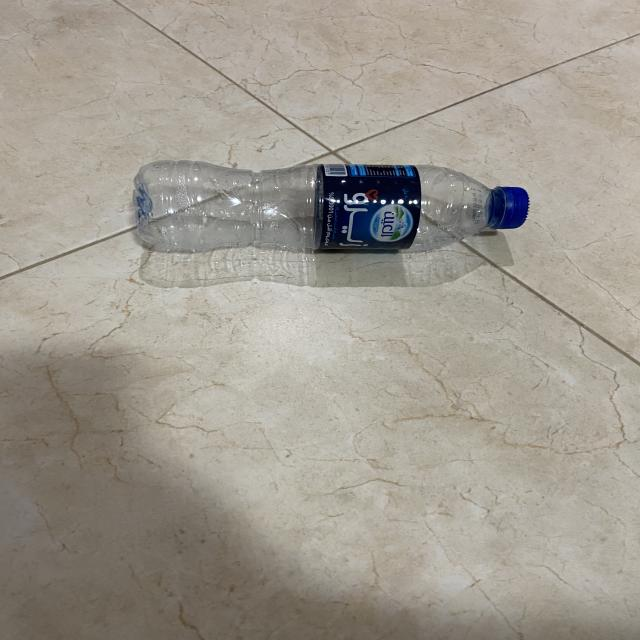bottle: (129, 158, 533, 255)
